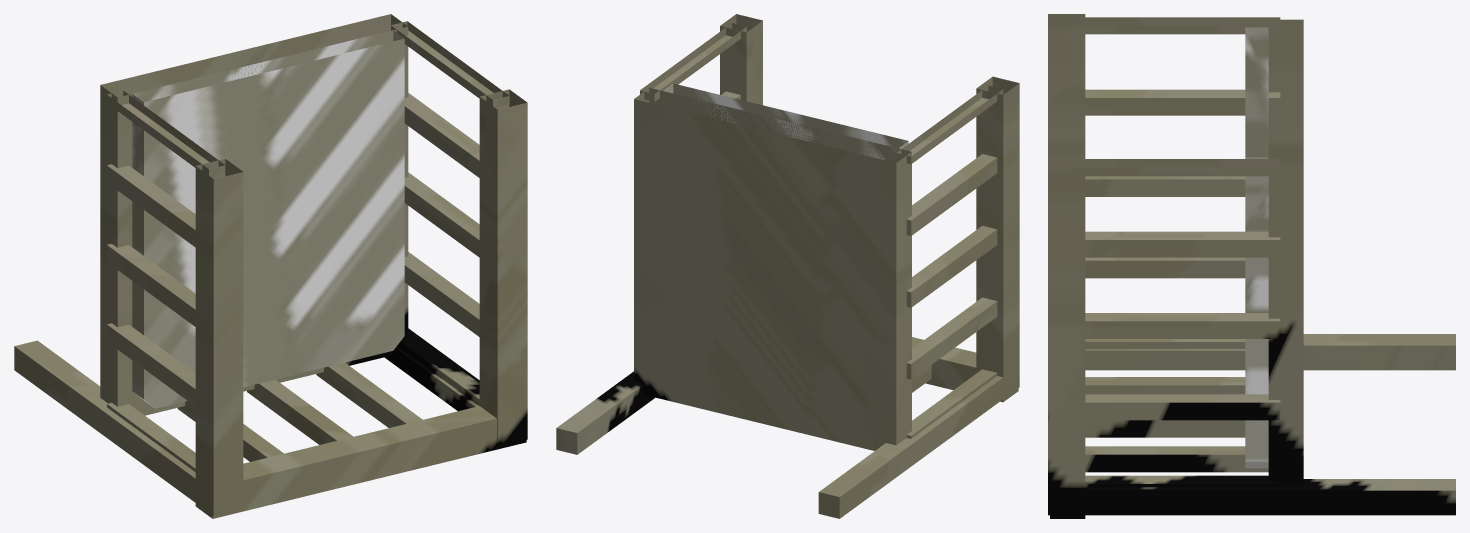
The model's file is pz_bed_bedding_01_light_wood_0_0.obj.
3 views of the same model, side by side, from view 1: azimuth 30°, elevation 25°; view 2: azimuth 150°, elevation 25°; view 3: azimuth 270°, elevation 25° (orthographic). The views are drawn at different scales.
Parts seen in each view (by area): view 1: root; view 2: root; view 3: root.
Part boxes in pixels (x1,y1,x2,y2): root: (14,14,527,518); root: (556,14,1019,518); root: (1048,14,1455,518).
Bounding box in the file's own units: 0.95 × 0.985 × 1.04.
Materials: 1 (1 with a texture image).
